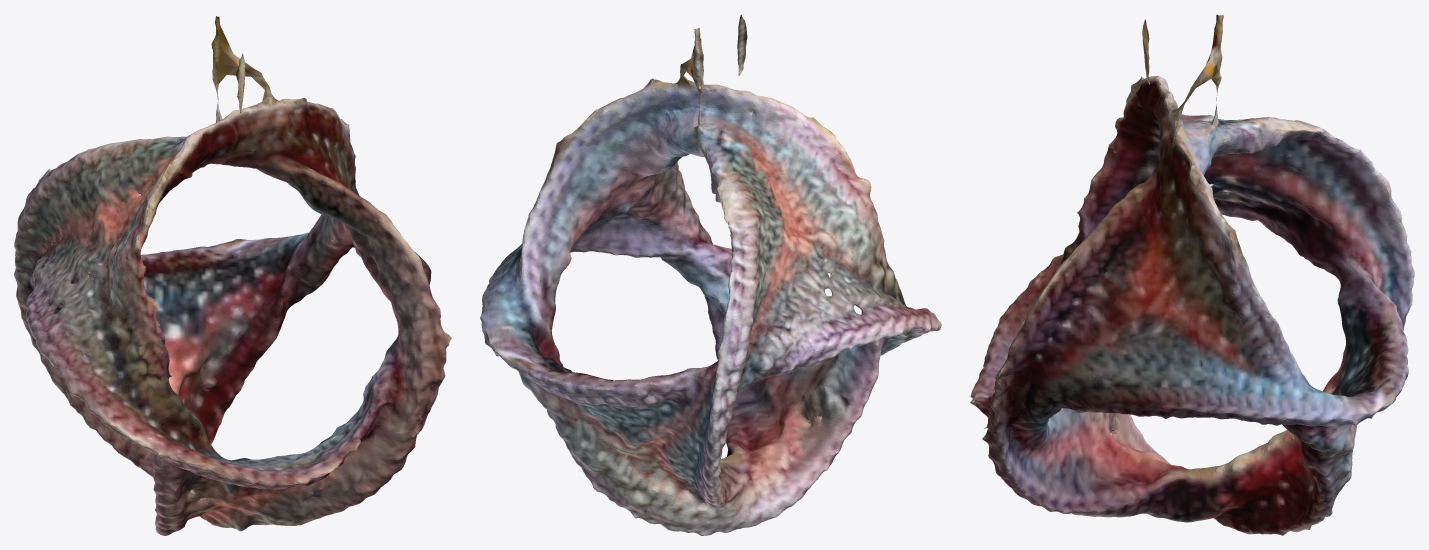
File: work01.glb
3 views of the same model, side by side, from view 1: azimuth 30°, elevation 25°; view 2: azimuth 150°, elevation 25°; view 3: azimuth 270°, elevation 25° (orthographic). The views are drawn at different scales.
Visible parts, largest first — view 1: mesh; view 2: mesh; view 3: mesh.
Boxes of the visible parts, box(x1,y1,x2,y2) form: mesh: box(14, 16, 451, 535); mesh: box(480, 14, 941, 535); mesh: box(970, 14, 1414, 535).
Size of the model in its own units: 0.1231 by 0.1529 by 0.1156.
Materials: 1 (1 with a texture image).
